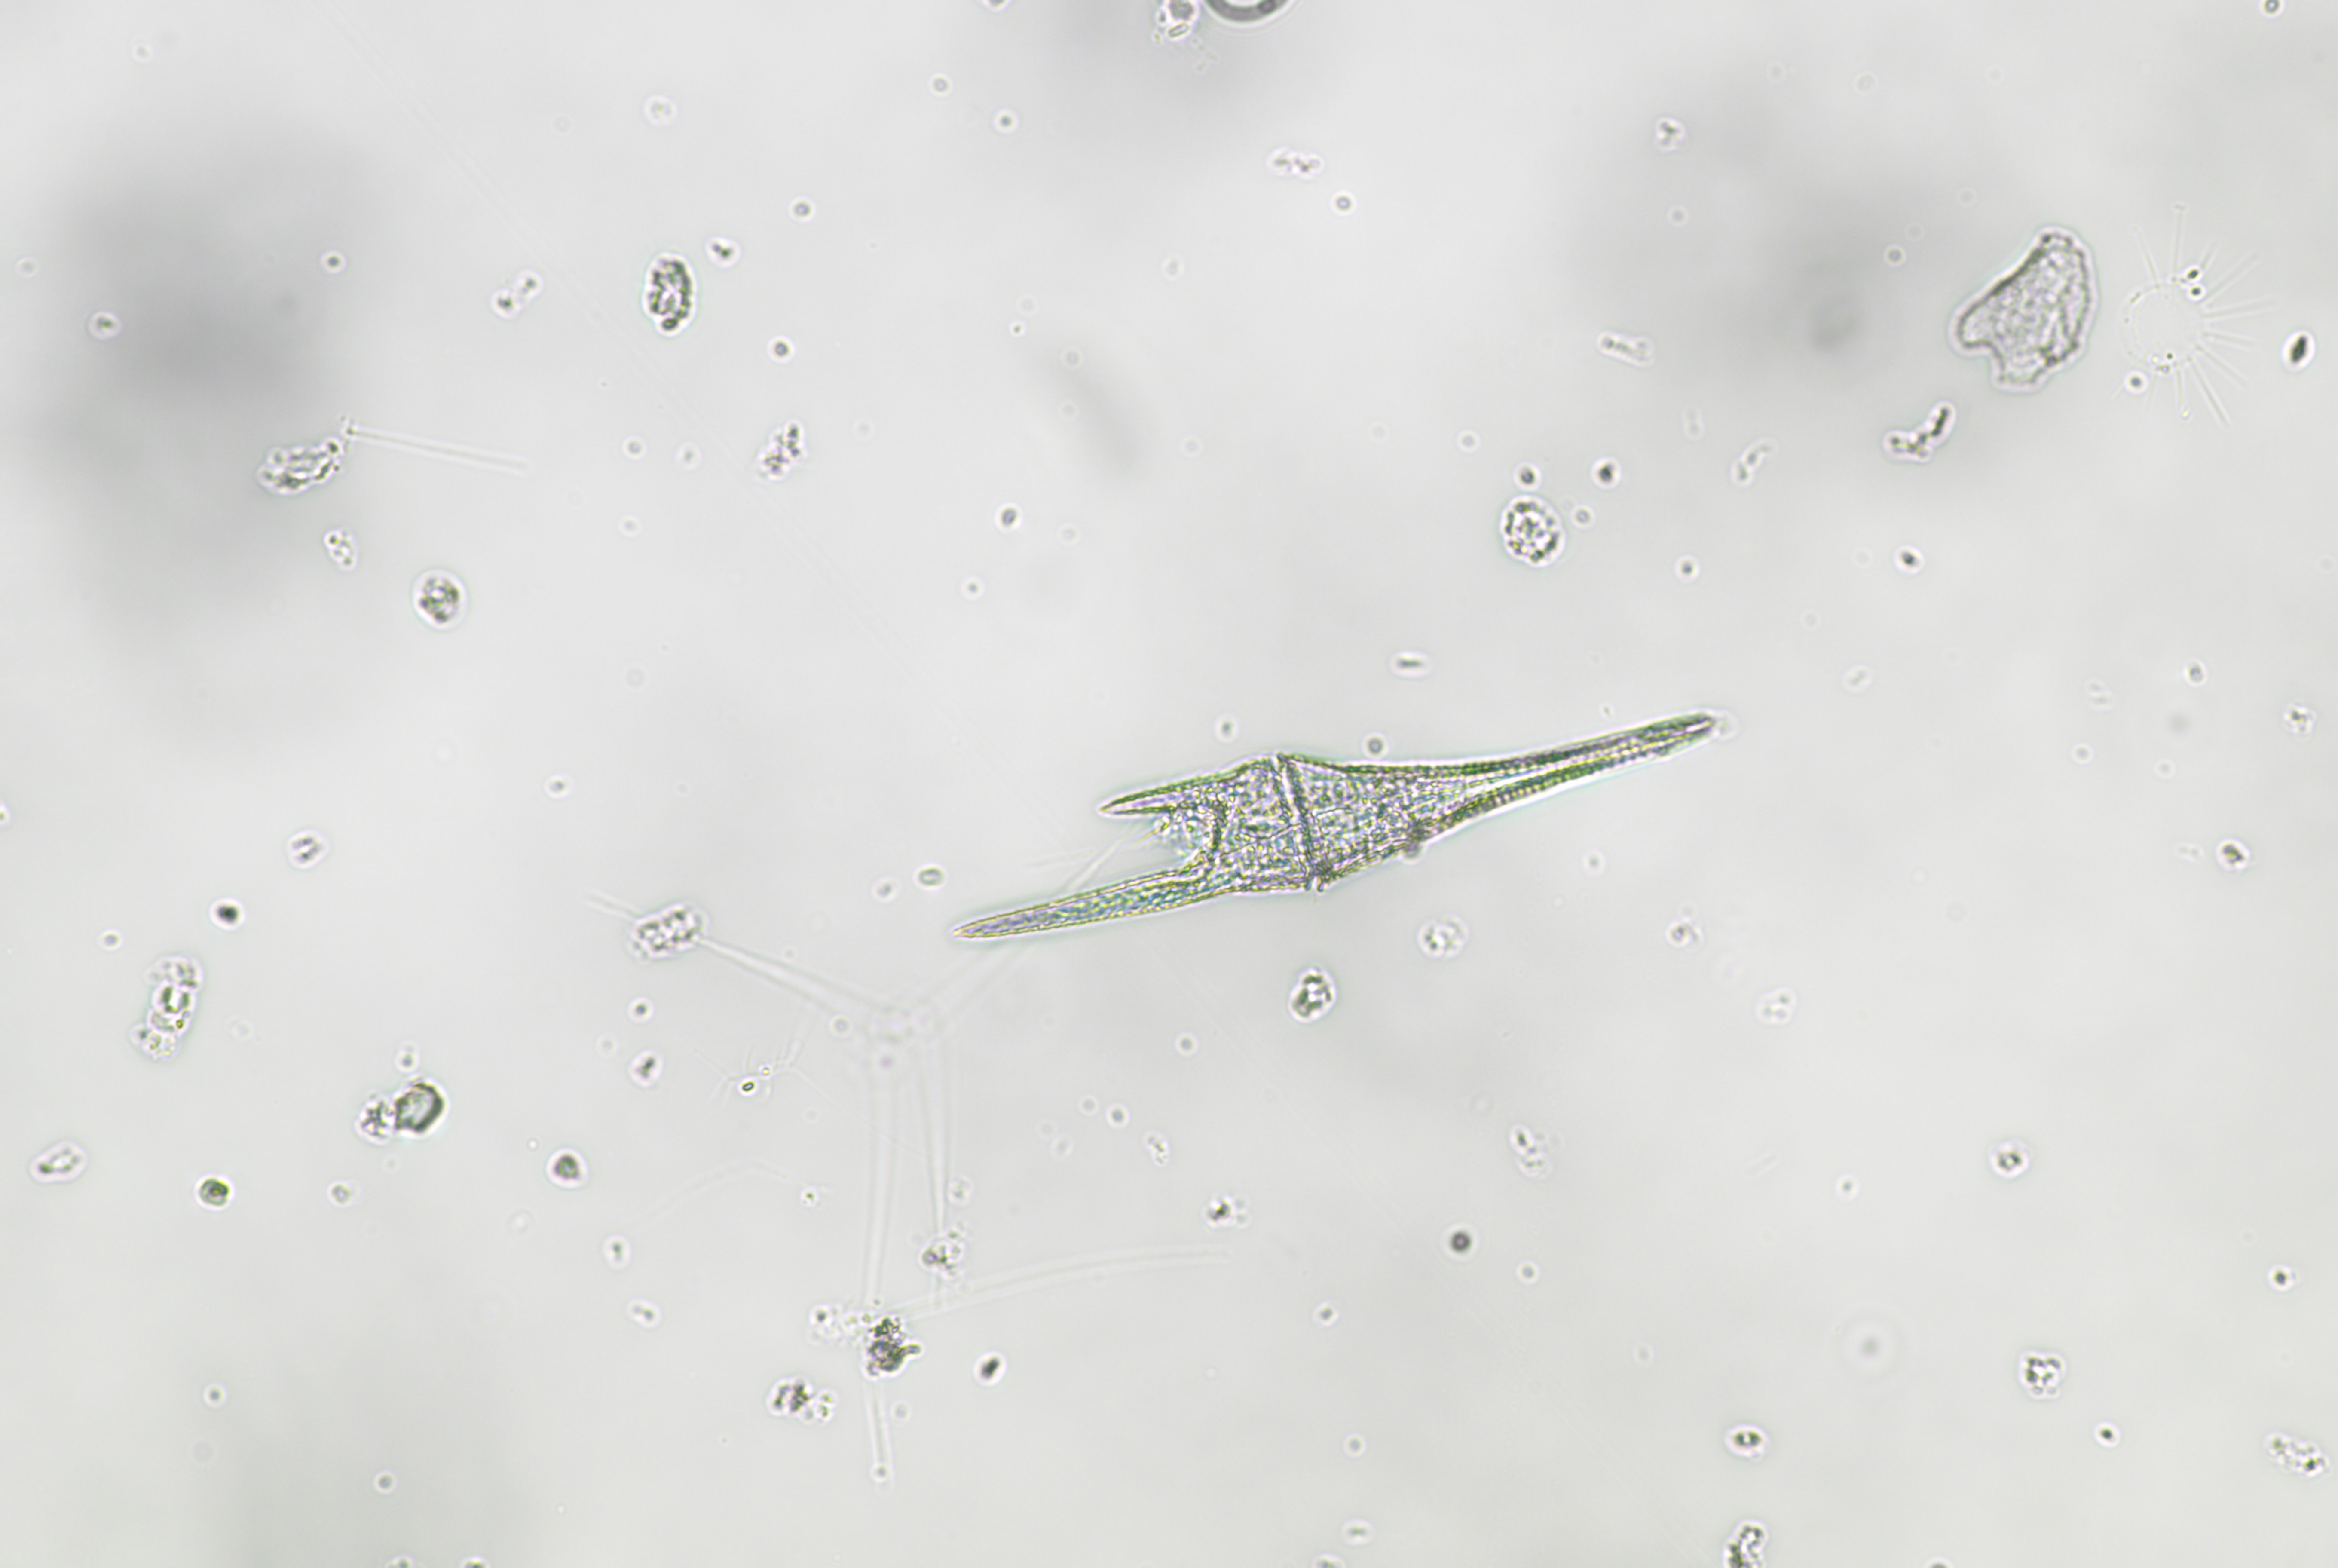ceratium furca: (947, 682, 1729, 945)
